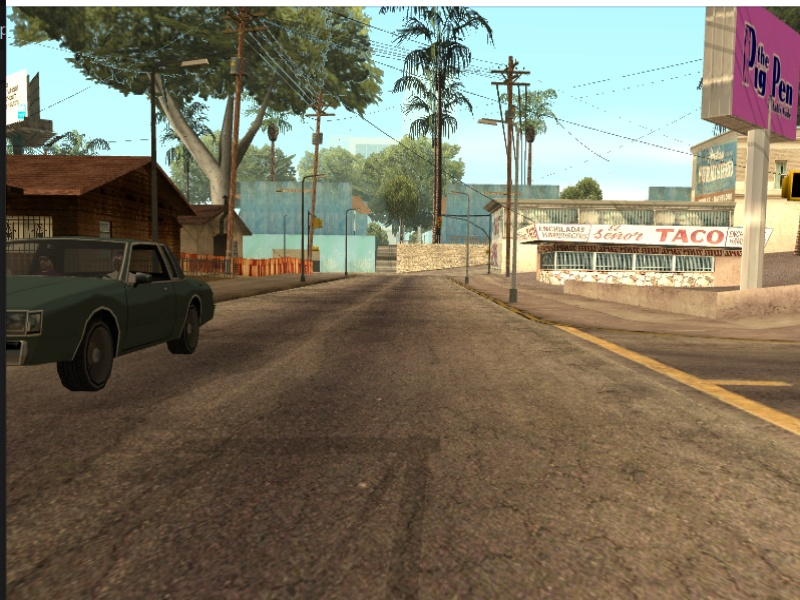pole: (142, 61, 170, 242), (511, 125, 526, 302), (299, 175, 311, 286), (464, 192, 471, 285), (343, 206, 350, 277)
vehicle: (5, 229, 217, 395)
